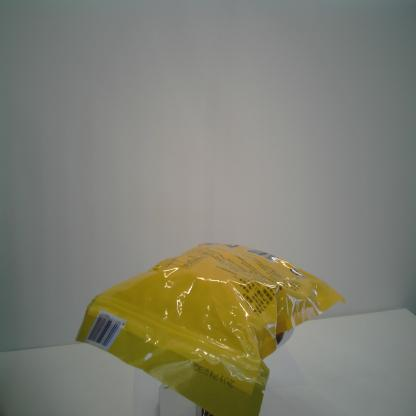Dried Food: (74, 241, 351, 414)
